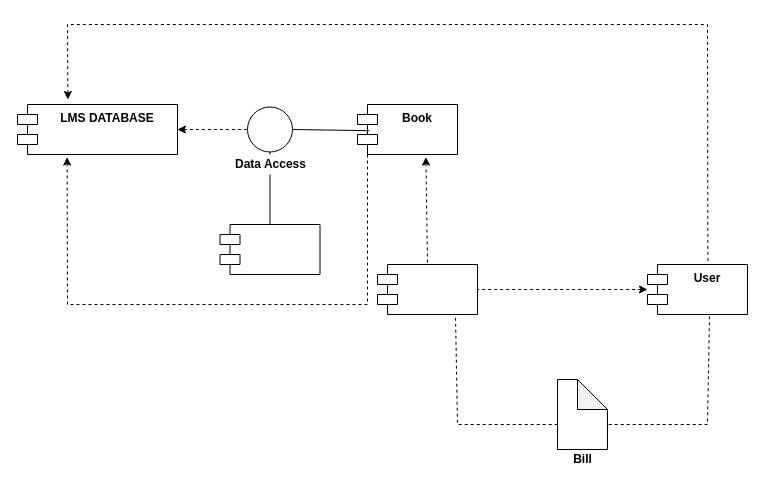
Some shapes in this 765 by 487 pixel diagram are drawn without their labels. The shapes that lost their labels are listed below. From the top down, each one's box as (x1, y1, x2, y2) in pixels, then its label:
(219, 224, 320, 274): Search
(376, 264, 478, 314): Transaction
